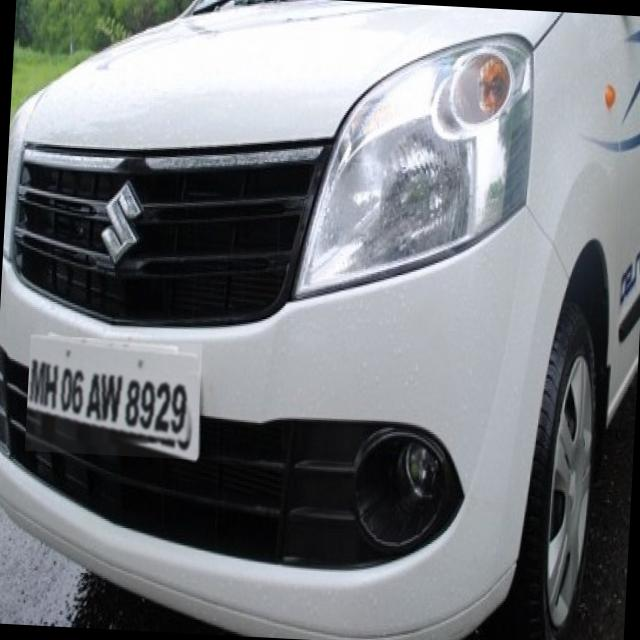Plate: (26, 337, 204, 462)
